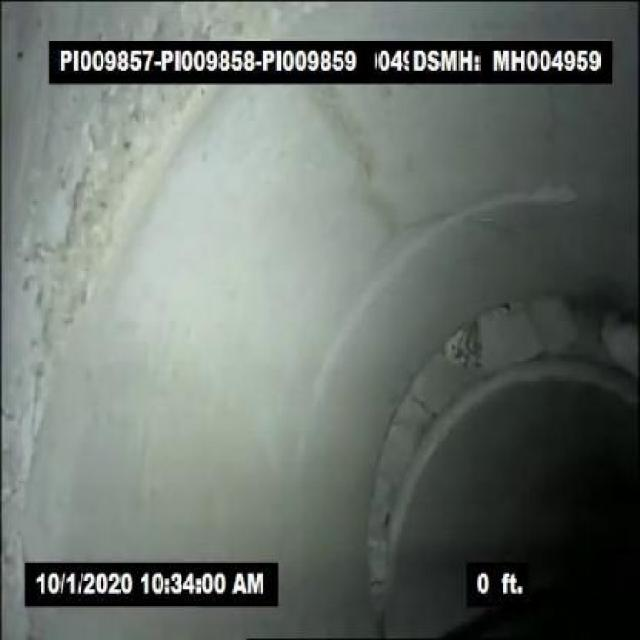Joint offset: (417, 284, 638, 394), (358, 397, 452, 577)
